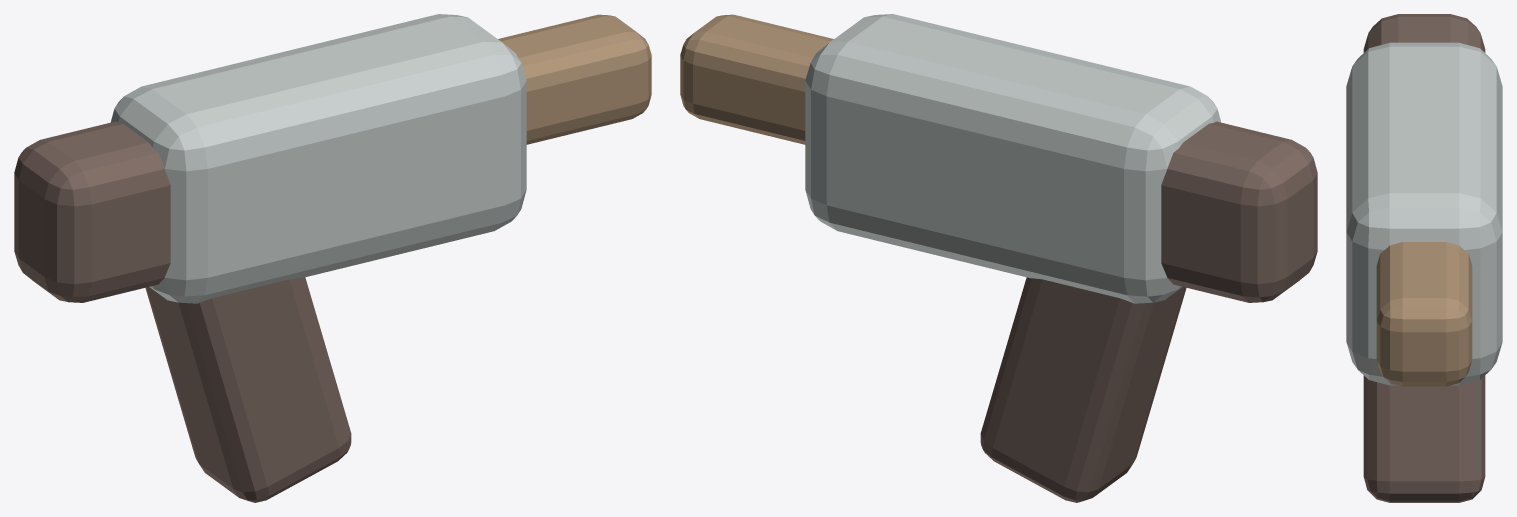
Rendered from brass-pistol.glb.
3 renders of one model, left to right at view 1: azimuth 30°, elevation 25°; view 2: azimuth 150°, elevation 25°; view 3: azimuth 270°, elevation 25°, orthographic.
Visible parts, largest first — view 1: GunBody, GunGrip, GunStock, GunBarrel; view 2: GunBody, GunGrip, GunStock, GunBarrel; view 3: GunBody, GunGrip, GunBarrel, GunStock.
Boxes of the visible parts, x1,y1,x2,y2 form: GunBody: [110, 14, 526, 303]; GunGrip: [145, 277, 351, 502]; GunStock: [14, 121, 170, 302]; GunBarrel: [498, 14, 651, 144]; GunBody: [805, 14, 1221, 303]; GunGrip: [980, 277, 1186, 502]; GunStock: [1161, 121, 1317, 302]; GunBarrel: [680, 14, 833, 144]; GunBody: [1346, 42, 1502, 385]; GunGrip: [1363, 375, 1485, 502]; GunBarrel: [1376, 242, 1472, 386]; GunStock: [1363, 14, 1485, 52].
Size of the model in its own units: 1.63 by 1.03 by 0.36.
